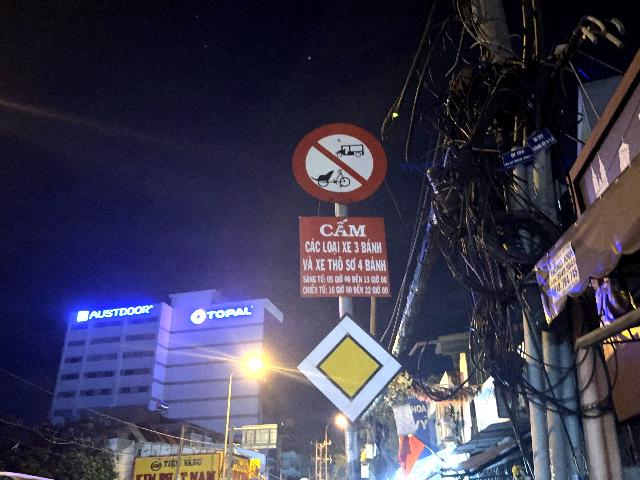bat-dau-duong-uu-tien: (296, 312, 405, 424)
cam-xe-3-banh-xe-tho-so-4-banh: (293, 122, 387, 204)
